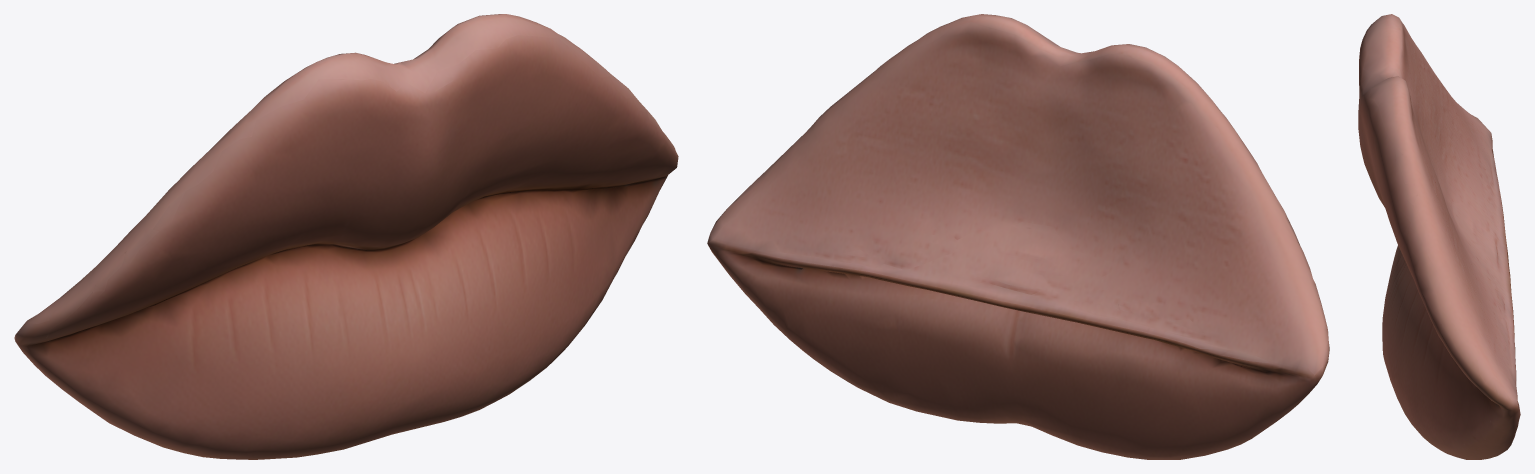
The model's file is lip_thick.fbx.
3 views of the same model, side by side, from view 1: azimuth 30°, elevation 25°; view 2: azimuth 150°, elevation 25°; view 3: azimuth 270°, elevation 25° (orthographic). The views are drawn at different scales.
Visible parts, largest first — view 1: 입술_두꺼운; view 2: 입술_두꺼운; view 3: 입술_두꺼운.
Part boxes in pixels (box(x1,y1,x2,y2)): 입술_두꺼운: box(14, 14, 678, 459); 입술_두꺼운: box(707, 14, 1329, 459); 입술_두꺼운: box(1358, 14, 1520, 459).
Bounding box in the file's own units: 9.72 × 5.75 × 2.43.
Materials: 1 (1 with a texture image).
